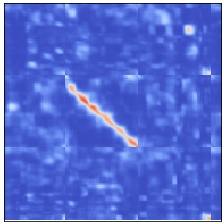action_path: (63, 75, 138, 149)
